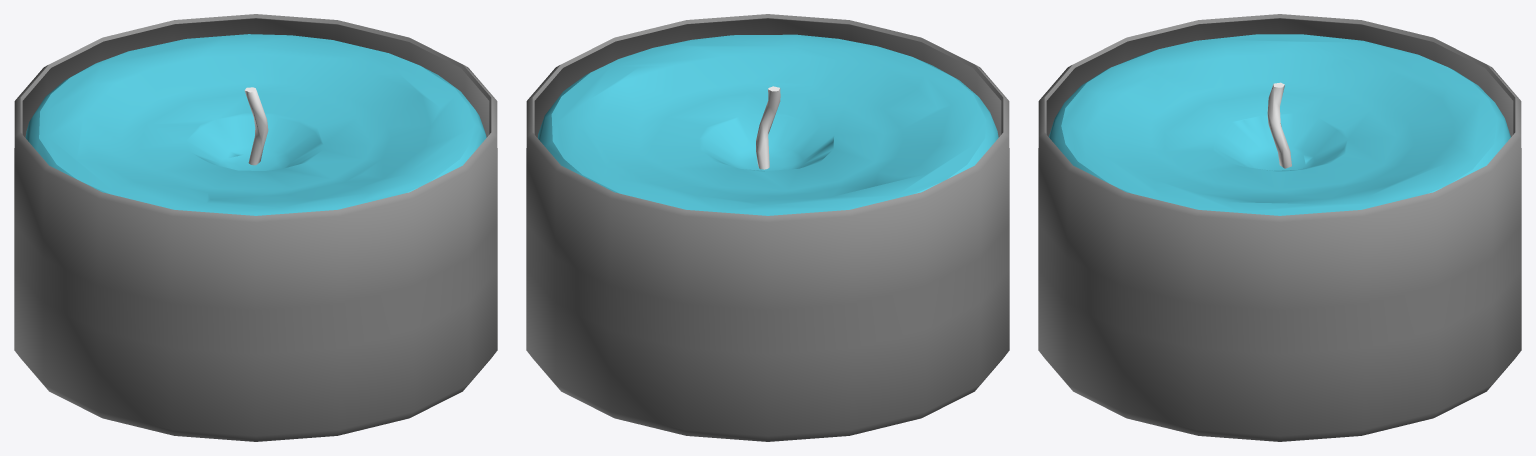
Rendered from Candle 2.FBX.
The picture shows the model from 3 angles, left to right: view 1: azimuth 30°, elevation 25°; view 2: azimuth 150°, elevation 25°; view 3: azimuth 270°, elevation 25°; orthographic projection.
Visible parts, largest first — view 1: candle 2; view 2: candle 2; view 3: candle 2.
Boxes of the visible parts, x1,y1,x2,y2 form: candle 2: (14, 14, 497, 441); candle 2: (526, 14, 1009, 441); candle 2: (1038, 14, 1521, 441).
Size of the model in its own units: 7.66 by 4.36 by 7.54.
Materials: 2 (1 with a texture image).
